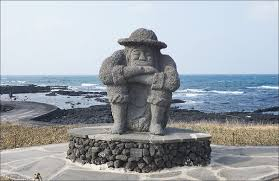Stone Statue: (84, 17, 192, 154)
